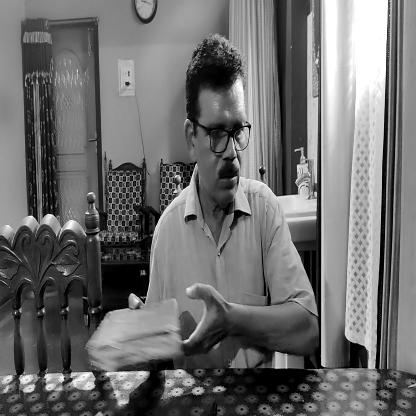Distracted: (183, 38, 249, 220)
